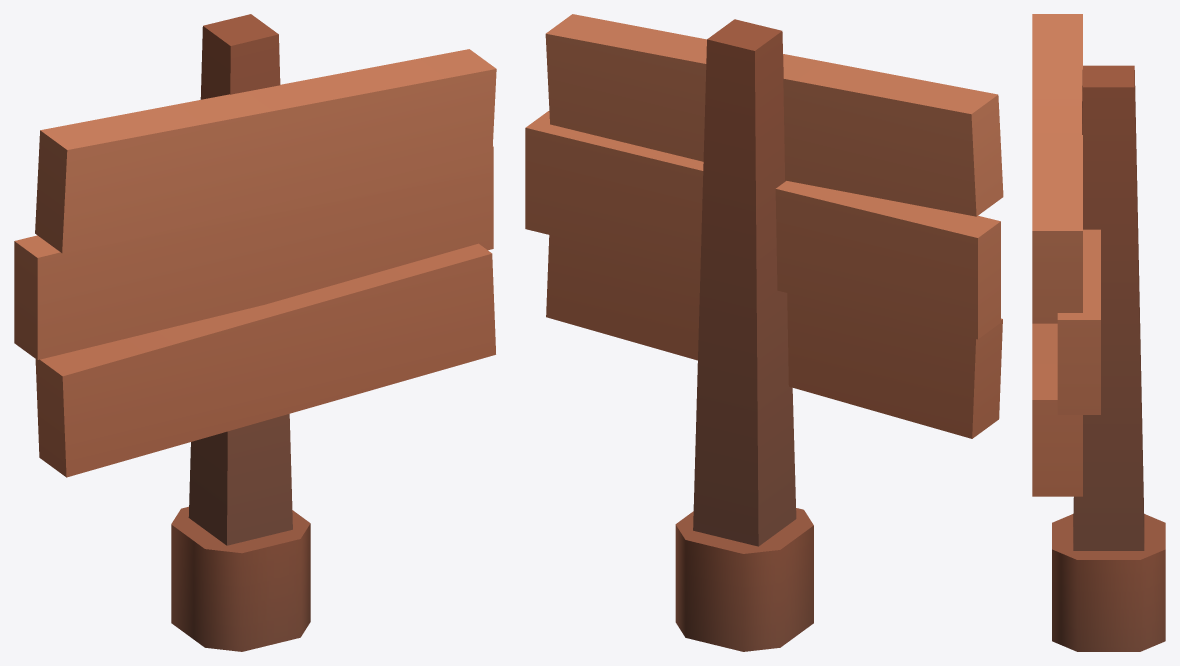
The model's file is sign.fbx.
3 renders of one model, left to right at view 1: azimuth 30°, elevation 25°; view 2: azimuth 150°, elevation 25°; view 3: azimuth 270°, elevation 25°, orthographic. The views are drawn at different scales.
Visible parts, largest first — view 1: sign; view 2: sign; view 3: sign.
Boxes of the visible parts, x1,y1,x2,y2 form: sign: (14,14,496,651); sign: (525,14,1003,651); sign: (1032,14,1165,651).
Bounding box in the file's own units: 48.35 × 60 × 13.14.
